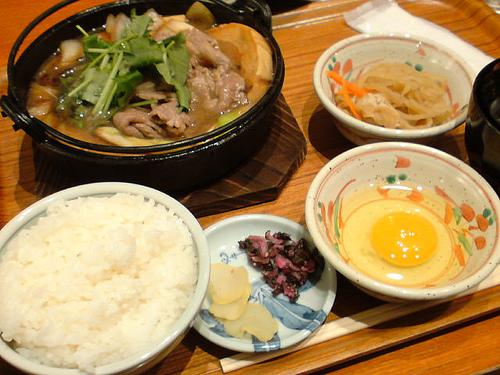rice: (0, 193, 196, 372)
